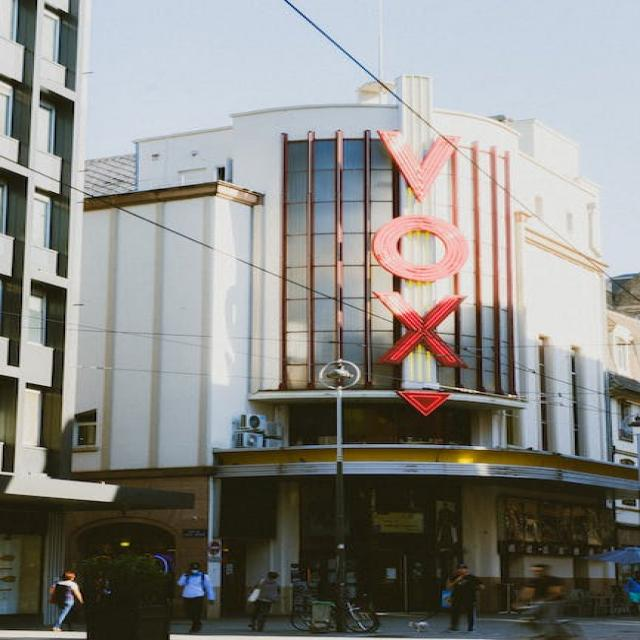no entry: (208, 541, 220, 556)
